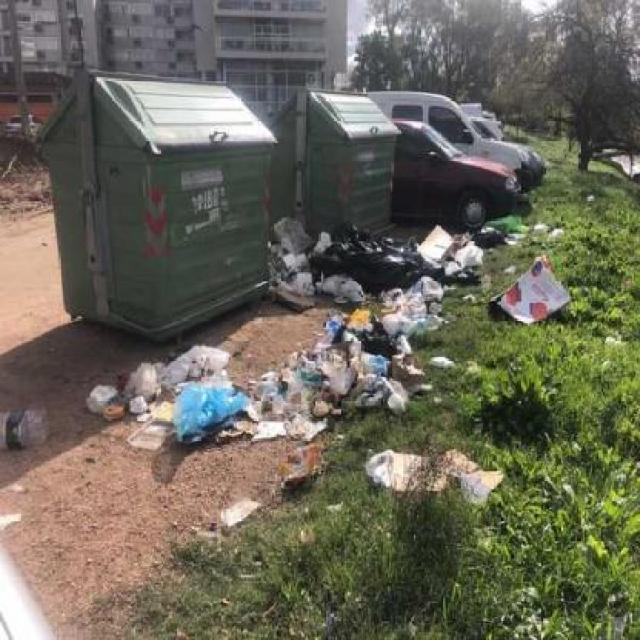garbage: (83, 337, 486, 464), (270, 219, 609, 336), (297, 296, 452, 400), (2, 391, 65, 484)
